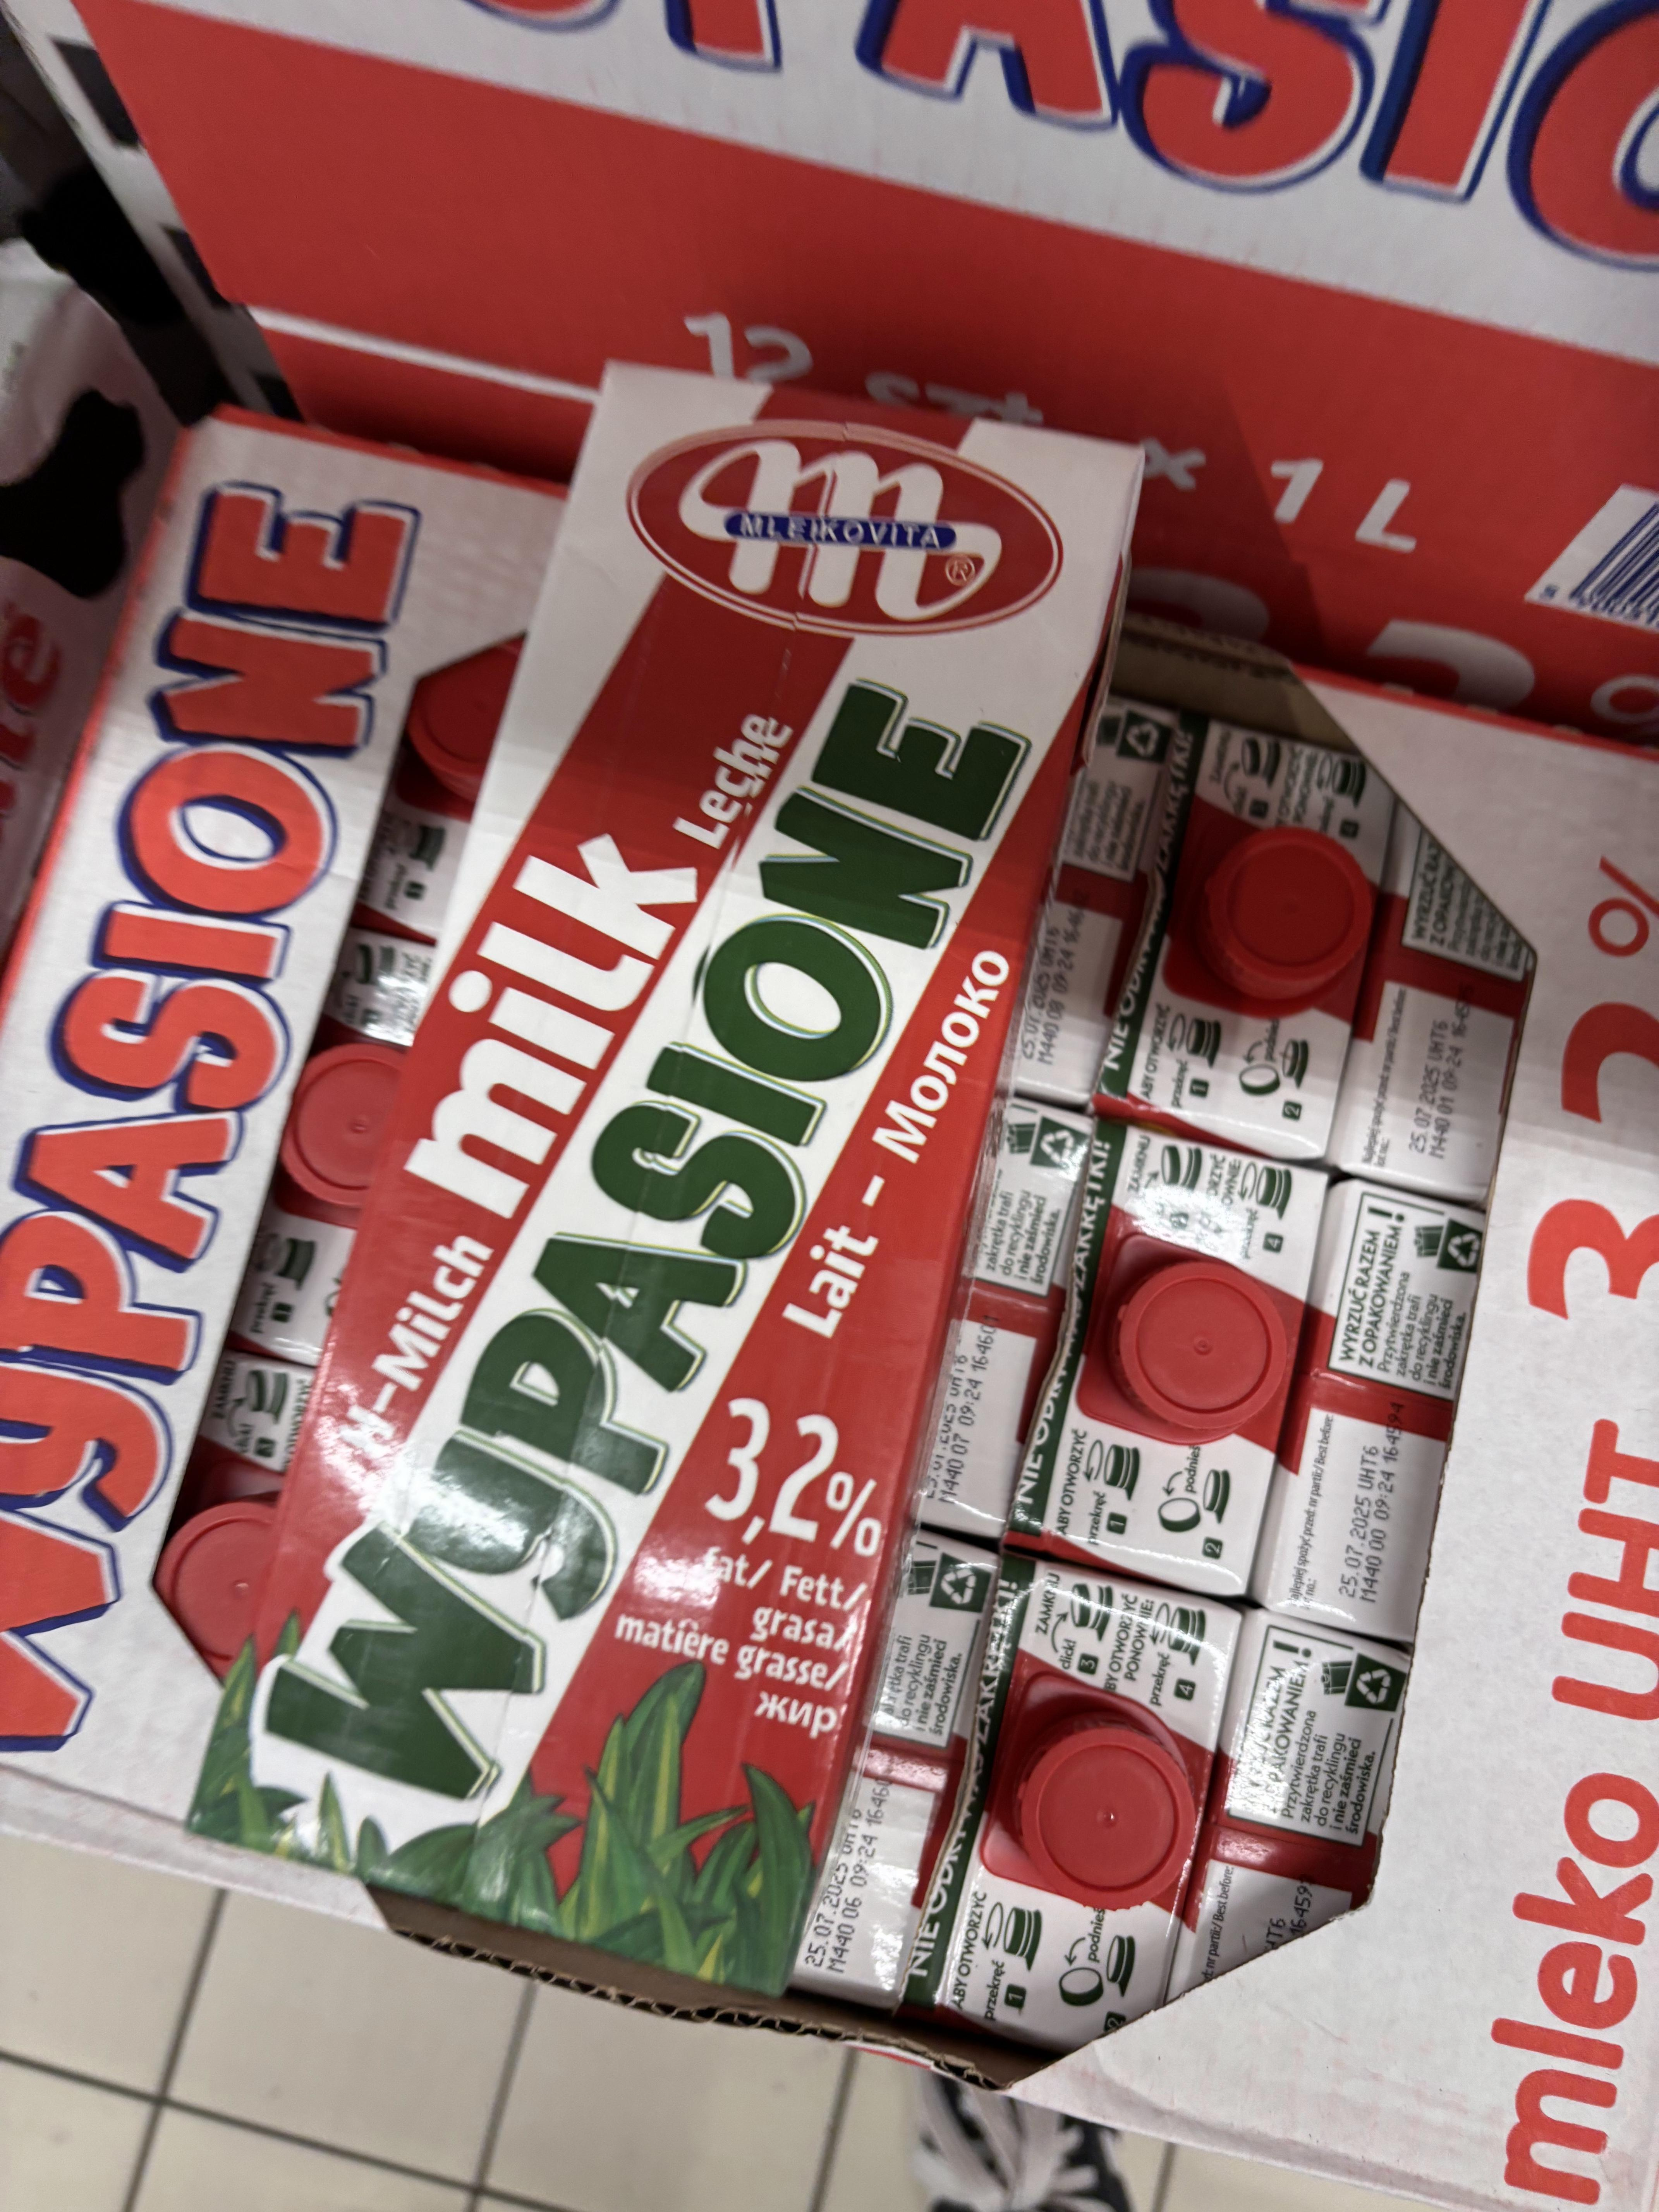Milk: (401, 371, 913, 1952)
